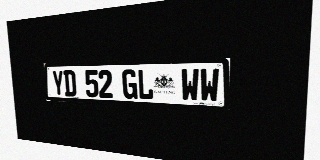2: (98, 70, 113, 98)
5: (85, 70, 99, 98)
D: (63, 70, 76, 97)
G: (122, 69, 137, 99)
L: (137, 69, 153, 100)
W: (200, 68, 219, 102), (181, 68, 199, 102)
Y: (52, 70, 64, 96)
